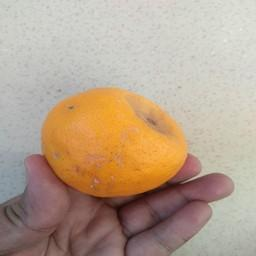Bad_orange: (37, 85, 188, 200)
